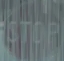Stop: (7, 6, 61, 52)
